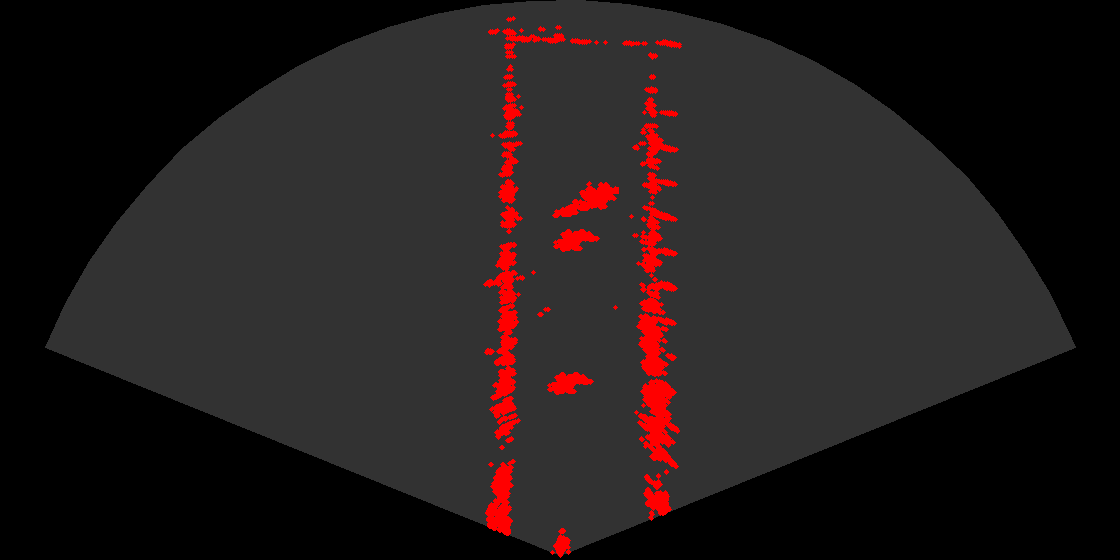AUV: (547, 227, 603, 259), (541, 370, 597, 402)
frogman: (551, 175, 619, 222)
